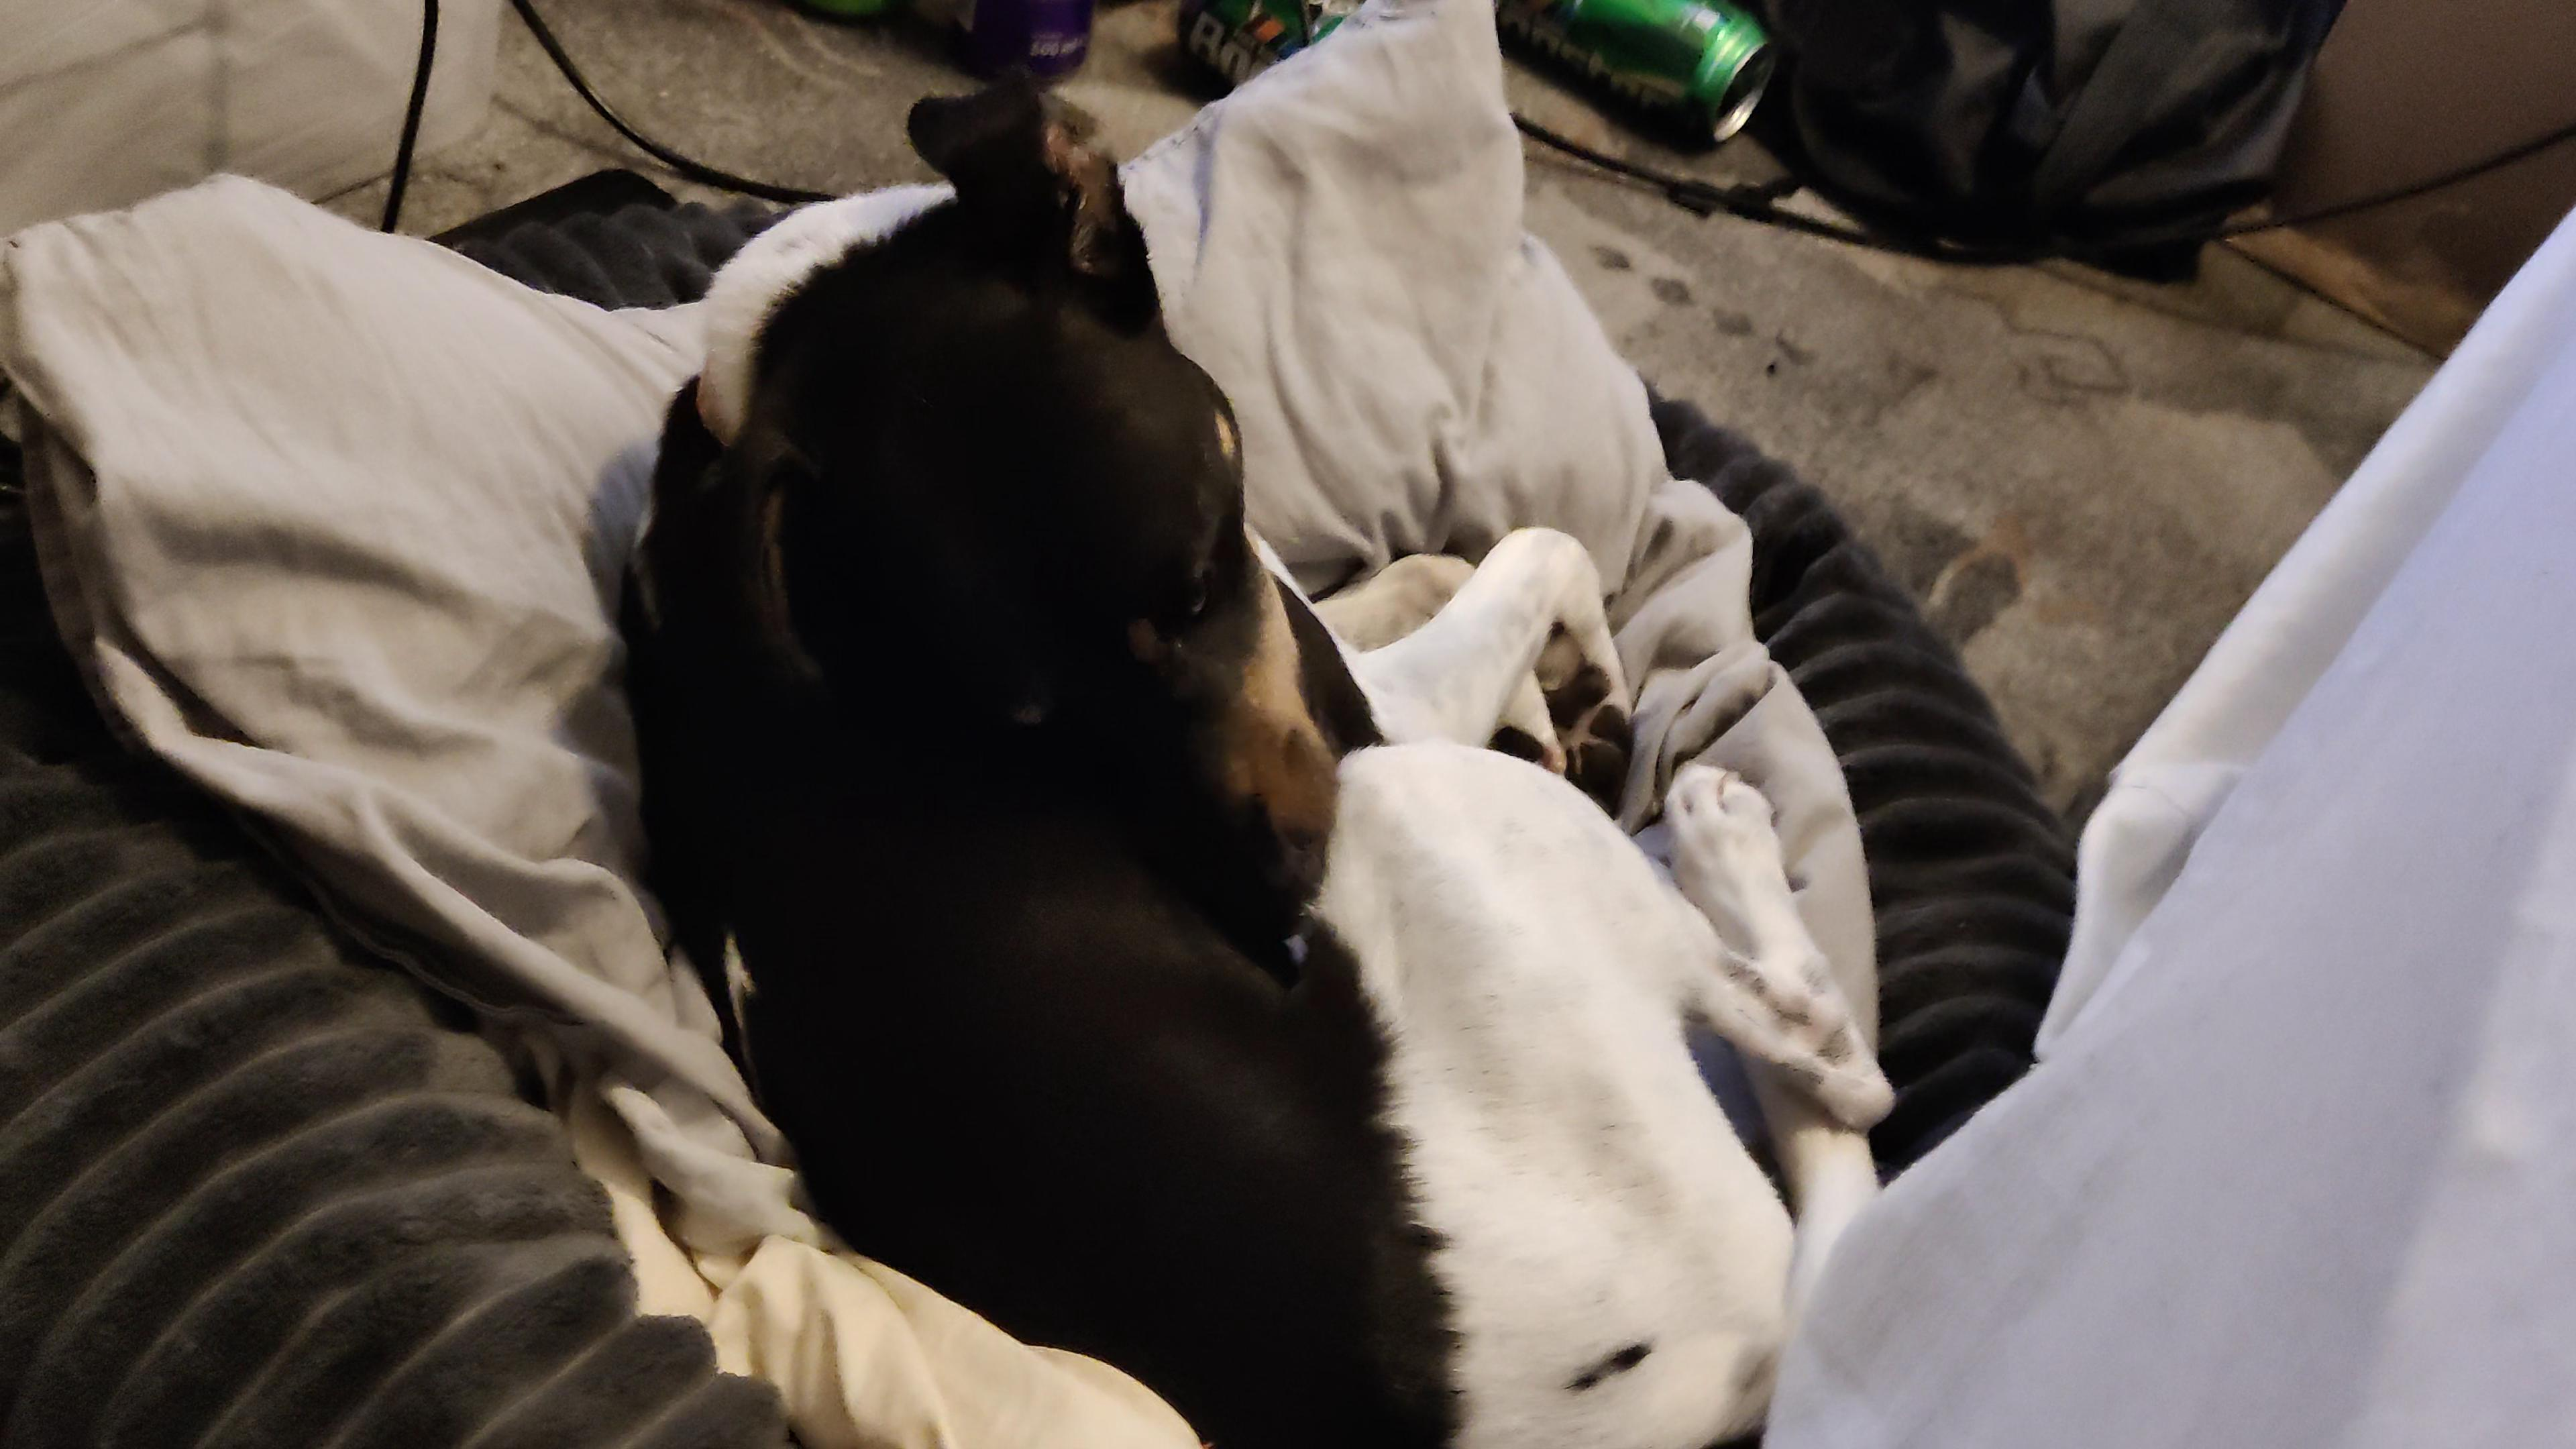Dog: (550, 55, 1923, 1449)
